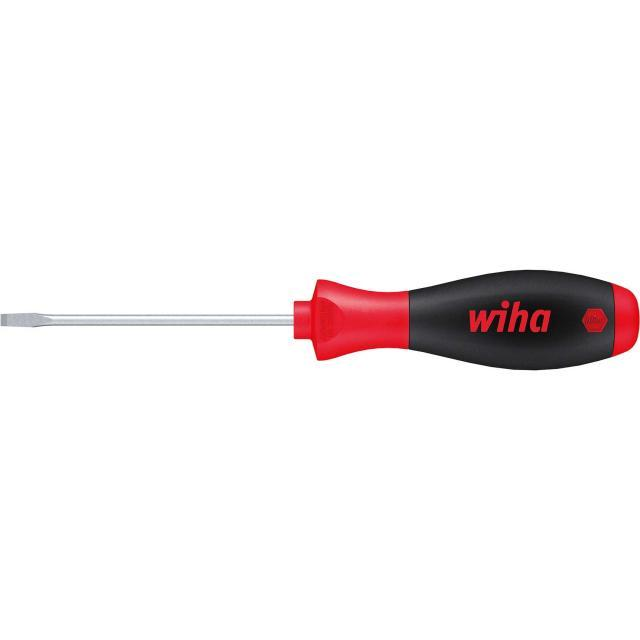screwdriver: (0, 265, 640, 374)
